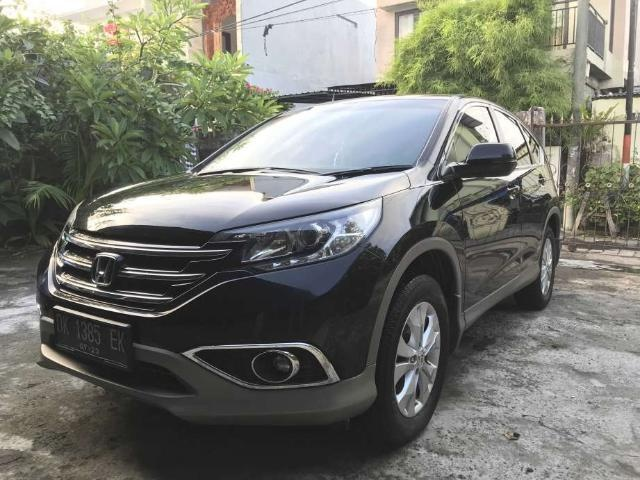plate: (50, 308, 128, 369)
